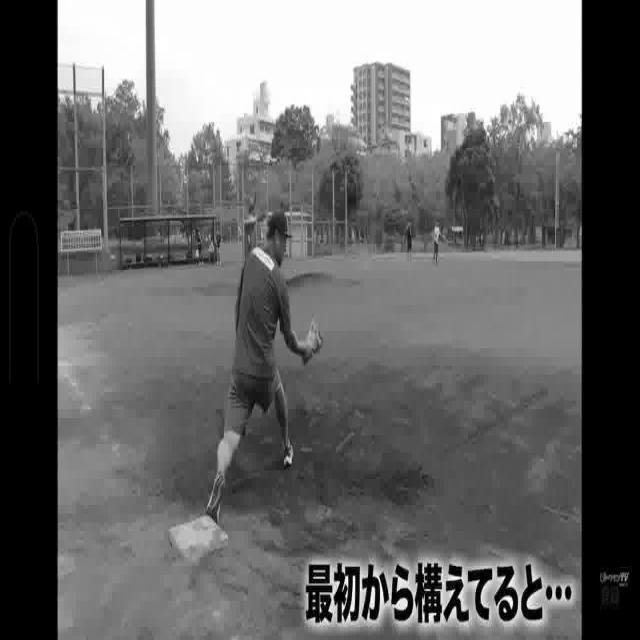base: (169, 519, 232, 562)
baseball_glove: (305, 321, 323, 364)
shoe: (207, 470, 225, 523), (280, 438, 293, 473)
